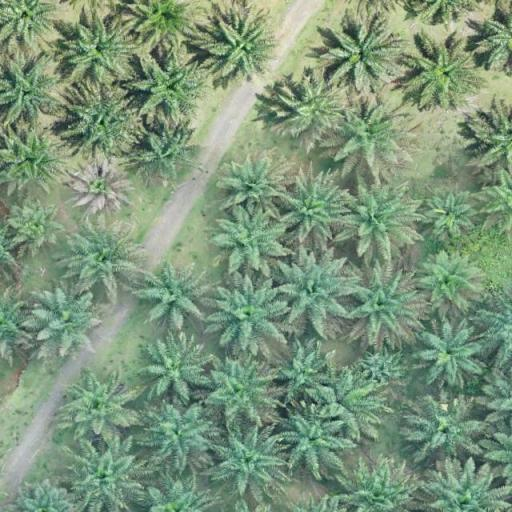Ganoderma: (77, 166, 129, 209)
